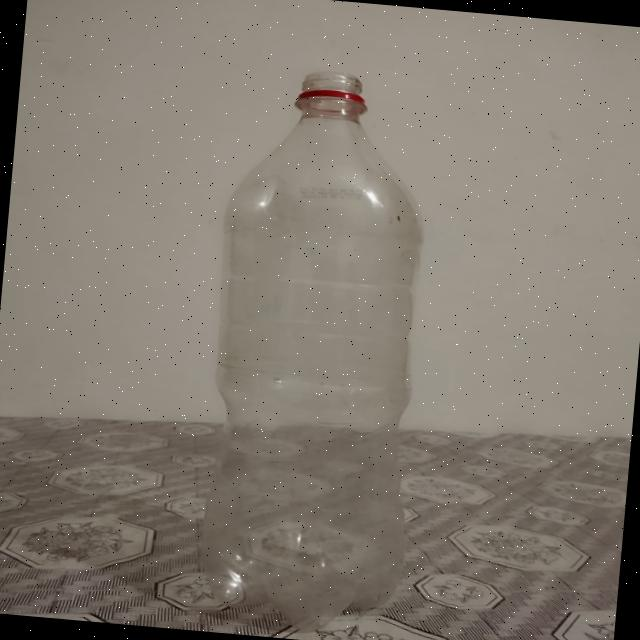bottle: (186, 62, 439, 636)
